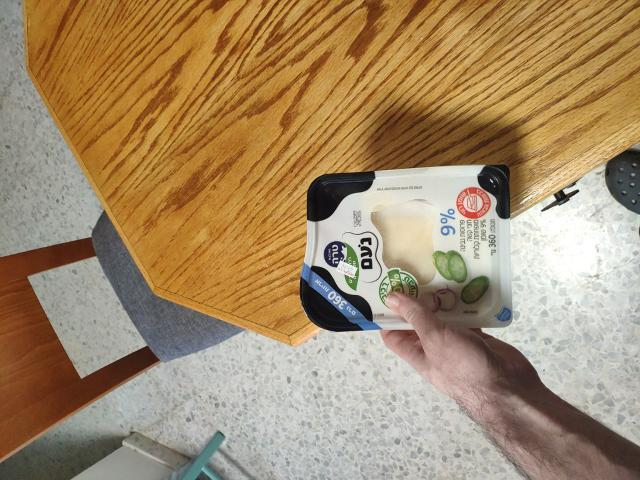cheese: (252, 166, 558, 336)
